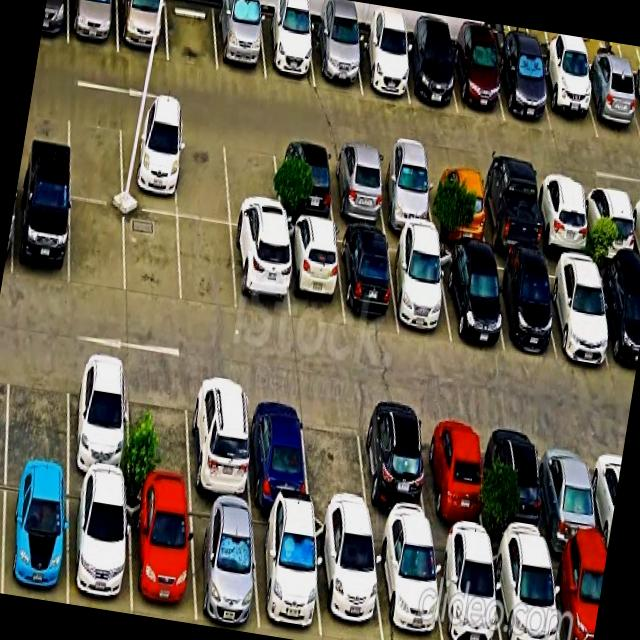car: (358, 404, 431, 533), (189, 498, 259, 632), (1, 469, 69, 604), (252, 508, 321, 640), (128, 488, 196, 621), (314, 517, 383, 640), (421, 412, 486, 542), (69, 477, 131, 611), (539, 429, 603, 557), (189, 375, 251, 505), (246, 385, 309, 512), (68, 354, 128, 485), (373, 529, 443, 640), (489, 421, 549, 549), (432, 535, 501, 640), (544, 258, 611, 366), (438, 247, 504, 352), (488, 254, 556, 355), (387, 237, 451, 343), (491, 543, 560, 640), (337, 229, 399, 332), (284, 222, 344, 326), (12, 184, 70, 286), (120, 115, 177, 215), (231, 228, 290, 320), (479, 170, 541, 256), (549, 550, 607, 640), (428, 163, 488, 246), (596, 264, 640, 376), (275, 141, 334, 224), (376, 154, 435, 235), (581, 65, 640, 145), (328, 148, 386, 229), (538, 60, 598, 138), (534, 177, 591, 258), (582, 183, 638, 264), (496, 50, 551, 130), (451, 43, 504, 121), (260, 13, 315, 87), (402, 40, 457, 113), (214, 4, 266, 80), (355, 32, 409, 104), (311, 25, 362, 94), (117, 0, 168, 61), (68, 0, 118, 52)
free: (303, 396, 370, 524), (129, 365, 191, 496), (6, 347, 68, 473), (224, 132, 281, 233), (178, 218, 237, 311), (125, 208, 181, 305), (176, 124, 230, 223), (69, 106, 122, 204), (70, 199, 125, 293), (166, 0, 218, 71)
